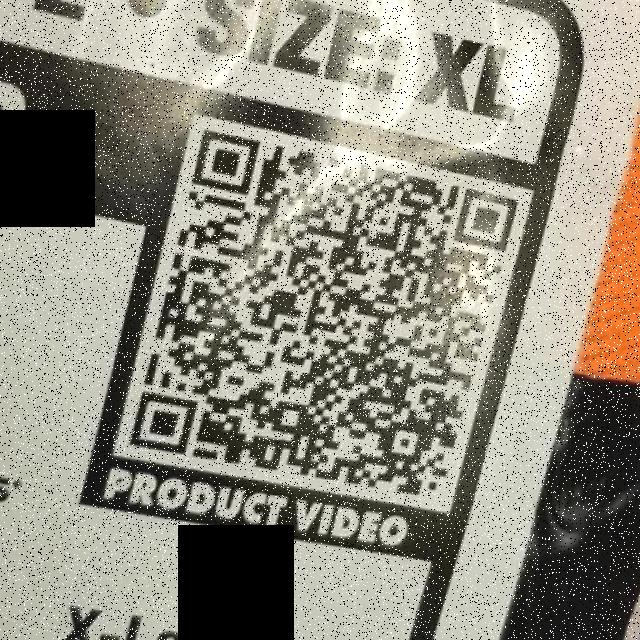QR_CODE: (116, 111, 535, 508)
